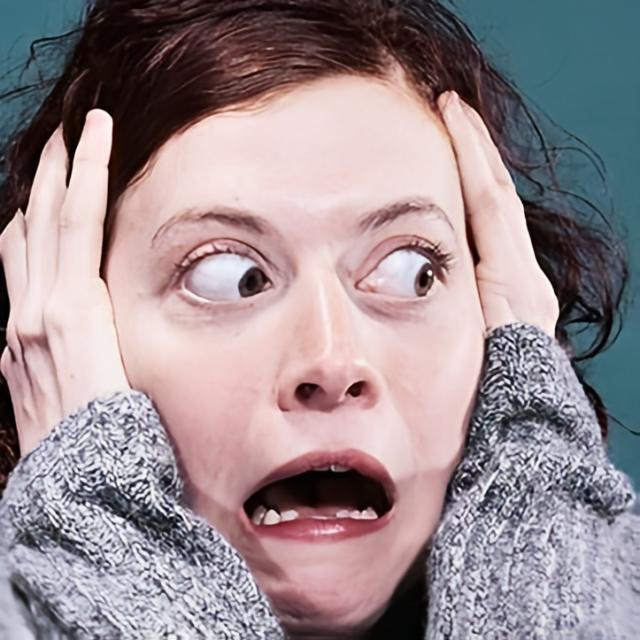fear: (106, 62, 486, 640)
